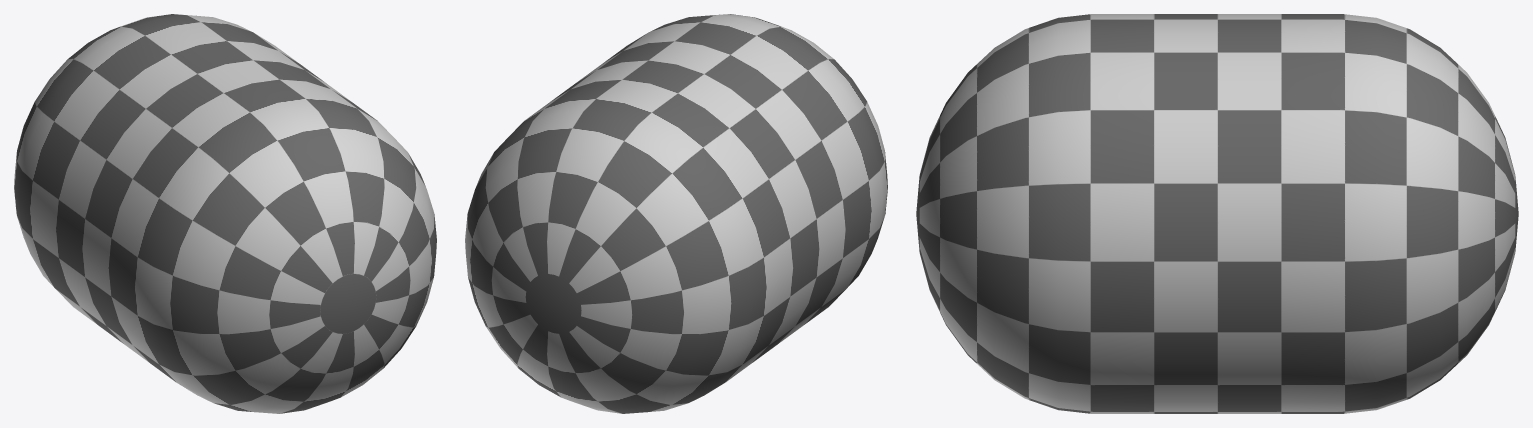
Rendered from OBJ_Mod_Capsule.obj.
3 views of the same model, side by side, from view 1: azimuth 30°, elevation 25°; view 2: azimuth 150°, elevation 25°; view 3: azimuth 270°, elevation 25° (orthographic). The views are drawn at different scales.
Visible parts, largest first — view 1: Capsule; view 2: Capsule; view 3: Capsule.
Boxes of the visible parts, x1=… form: Capsule: x1=14, y1=14, x2=436, y2=413; Capsule: x1=465, y1=14, x2=887, y2=413; Capsule: x1=916, y1=14, x2=1518, y2=413.
Bounding box in the file's own units: 2 × 2 × 3.01.
1 material, 1 textured.
